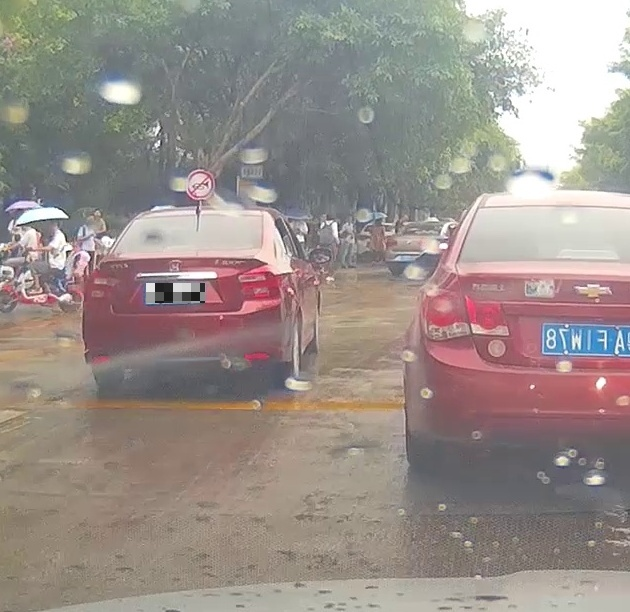L_light: (85, 272, 119, 298)
R_light: (238, 263, 279, 297)
T_light: (187, 214, 213, 220)
day-no: (81, 210, 282, 389)
plate_1: (146, 283, 205, 303)
